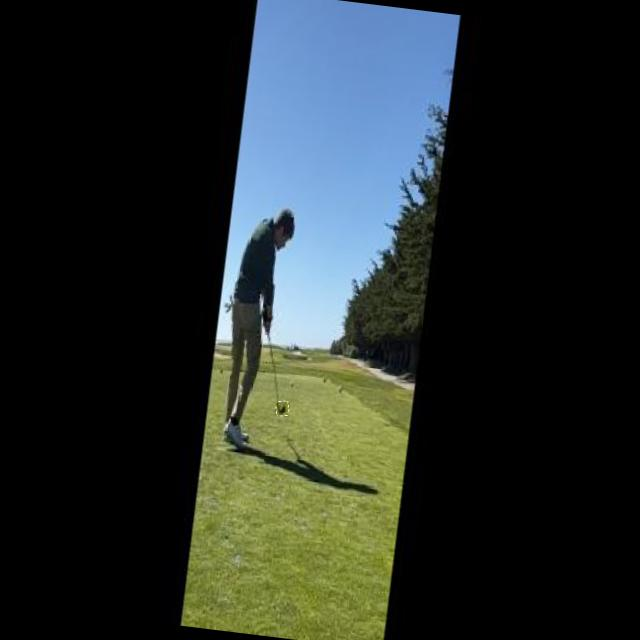club head: (274, 400, 290, 417)
